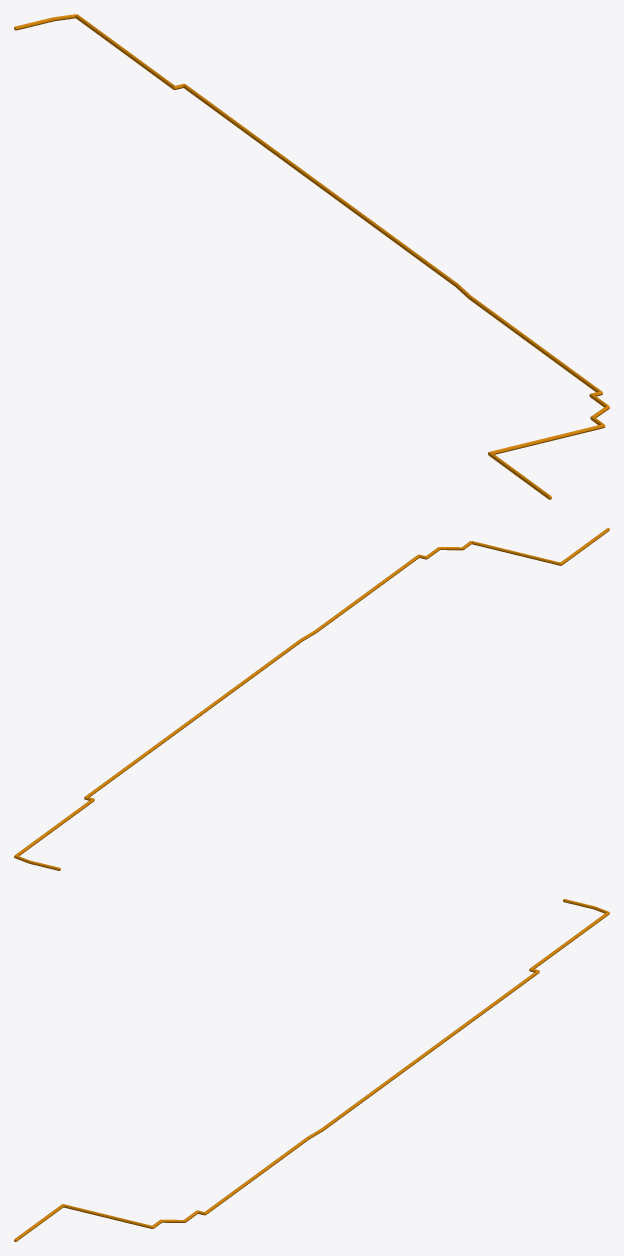
3 renders of one model, top to bottom at view 1: azimuth 30°, elevation 25°; view 2: azimuth 150°, elevation 25°; view 3: azimuth 330°, elevation 25°, orthographic. The views are drawn at different scales.
Size of the model in its own units: 802 by 20 by 5651.
